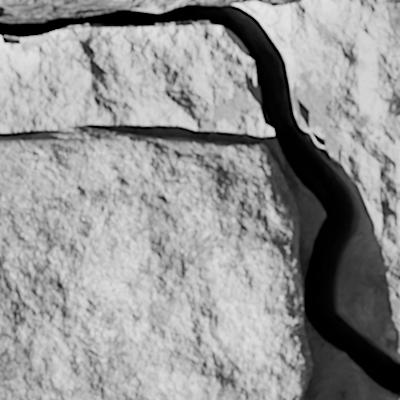brick: (0, 127, 311, 399), (386, 68, 399, 139), (387, 0, 399, 40)
broken_brick: (0, 0, 294, 11)
crack: (0, 1, 399, 398)
